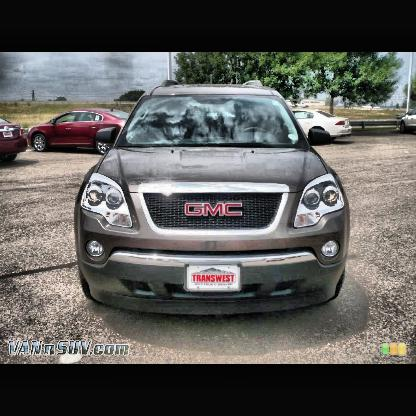GMC Acadia SUV 2012: (61, 69, 365, 336)
